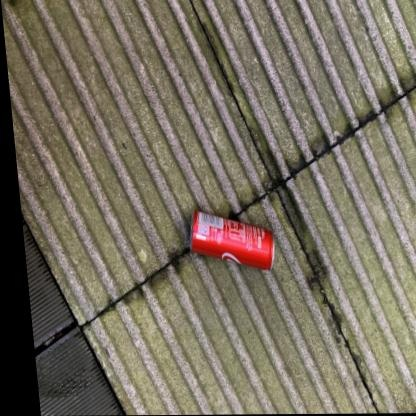trash: (191, 210, 273, 268)
